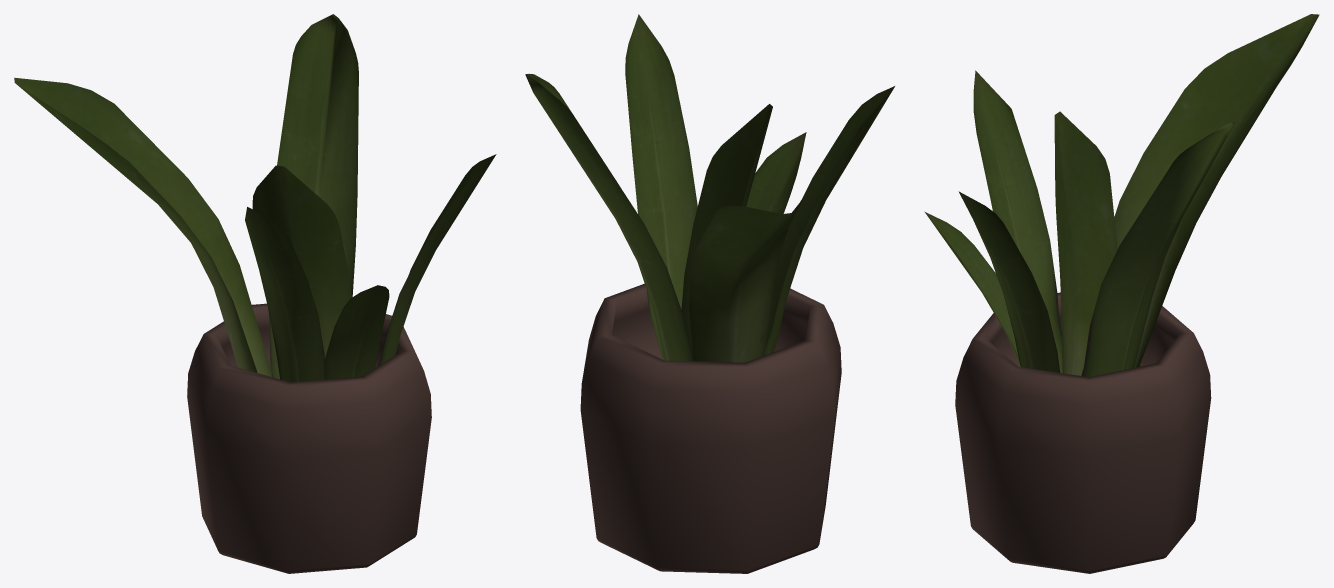
File: flower_in_pot.glb
The picture shows the model from 3 angles, left to right: view 1: azimuth 30°, elevation 25°; view 2: azimuth 150°, elevation 25°; view 3: azimuth 270°, elevation 25°; orthographic projection. The views are drawn at different scales.
Visible parts, largest first — view 1: FlowerInPot; view 2: FlowerInPot; view 3: FlowerInPot.
Boxes of the visible parts, x1,y1,x2,y2 form: FlowerInPot: (14,14,496,573); FlowerInPot: (525,14,894,573); FlowerInPot: (924,14,1319,573).
Bounding box in the file's own units: 0.5502 × 0.7511 × 0.5914.
3 materials, 2 textured.
